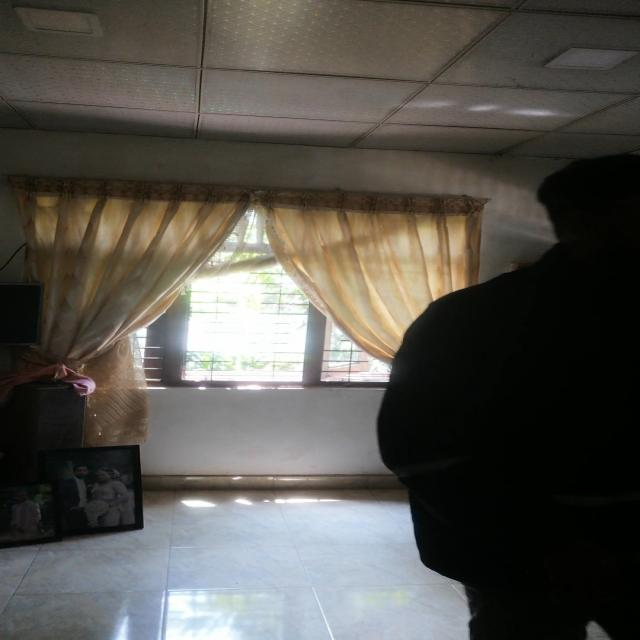Jacket_Wearer: (378, 248, 640, 584)
Person: (380, 155, 640, 640)
